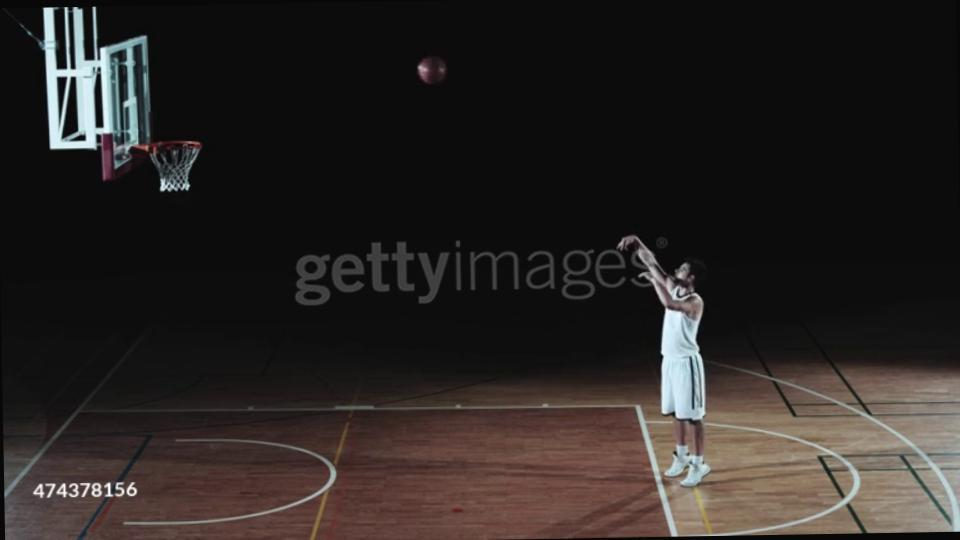hoop: (127, 134, 207, 160)
